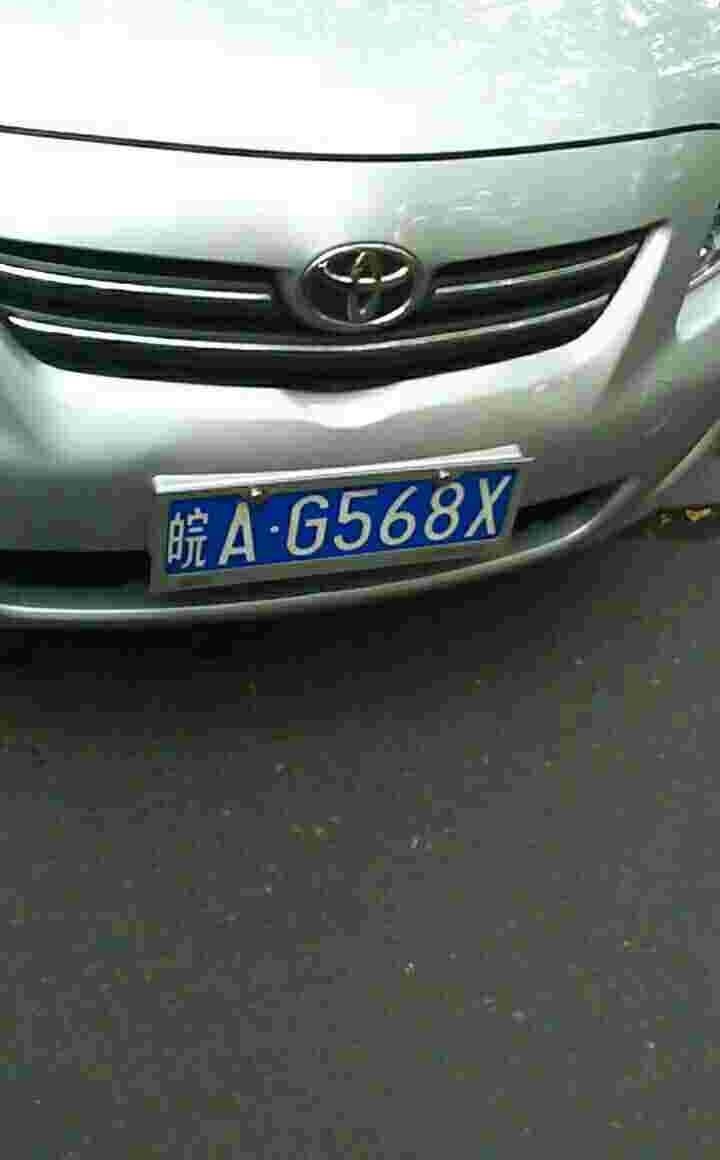license_plate: (167, 467, 517, 575)
